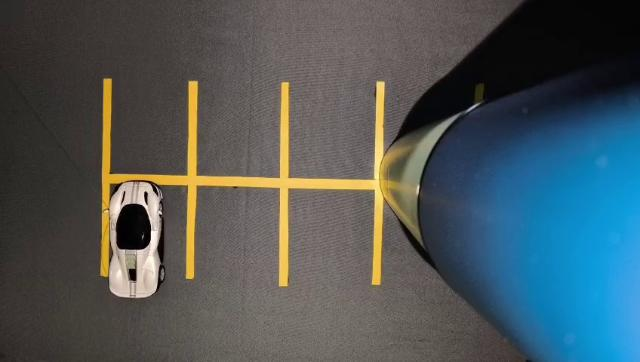toy_car: (76, 152, 208, 316)
